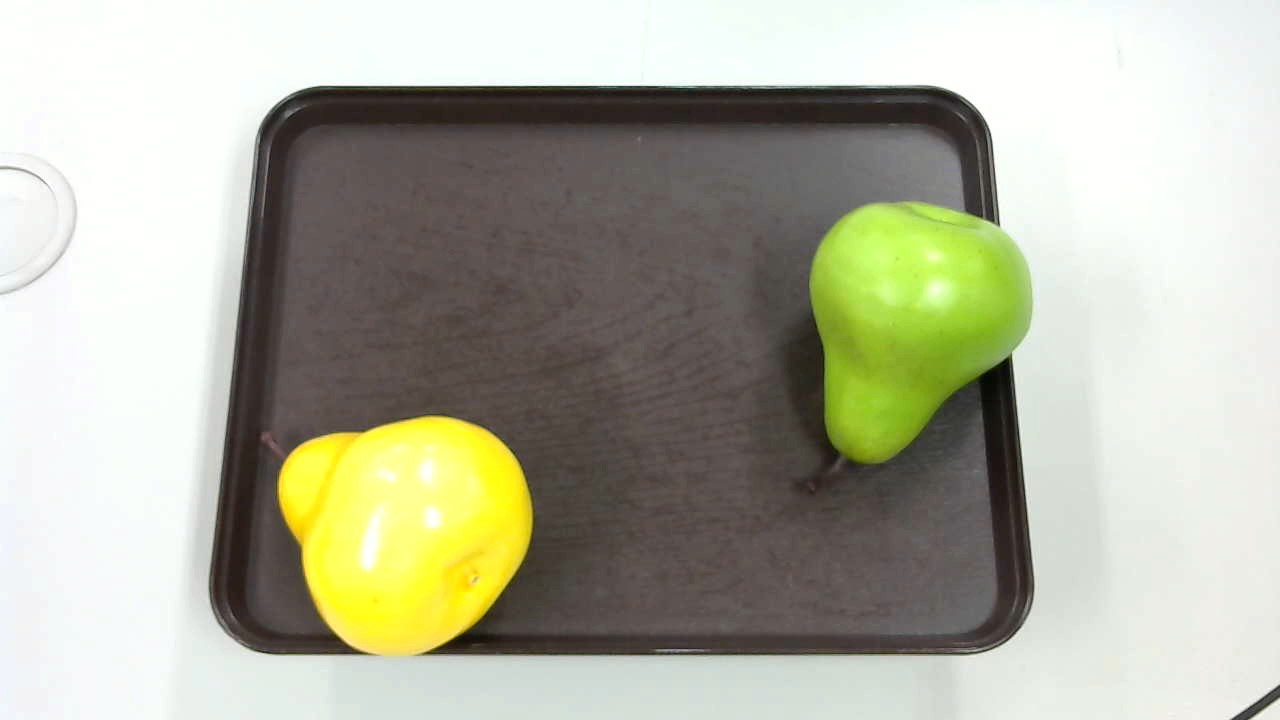green pear: (784, 190, 1037, 507)
yellow pear: (245, 414, 533, 655)
